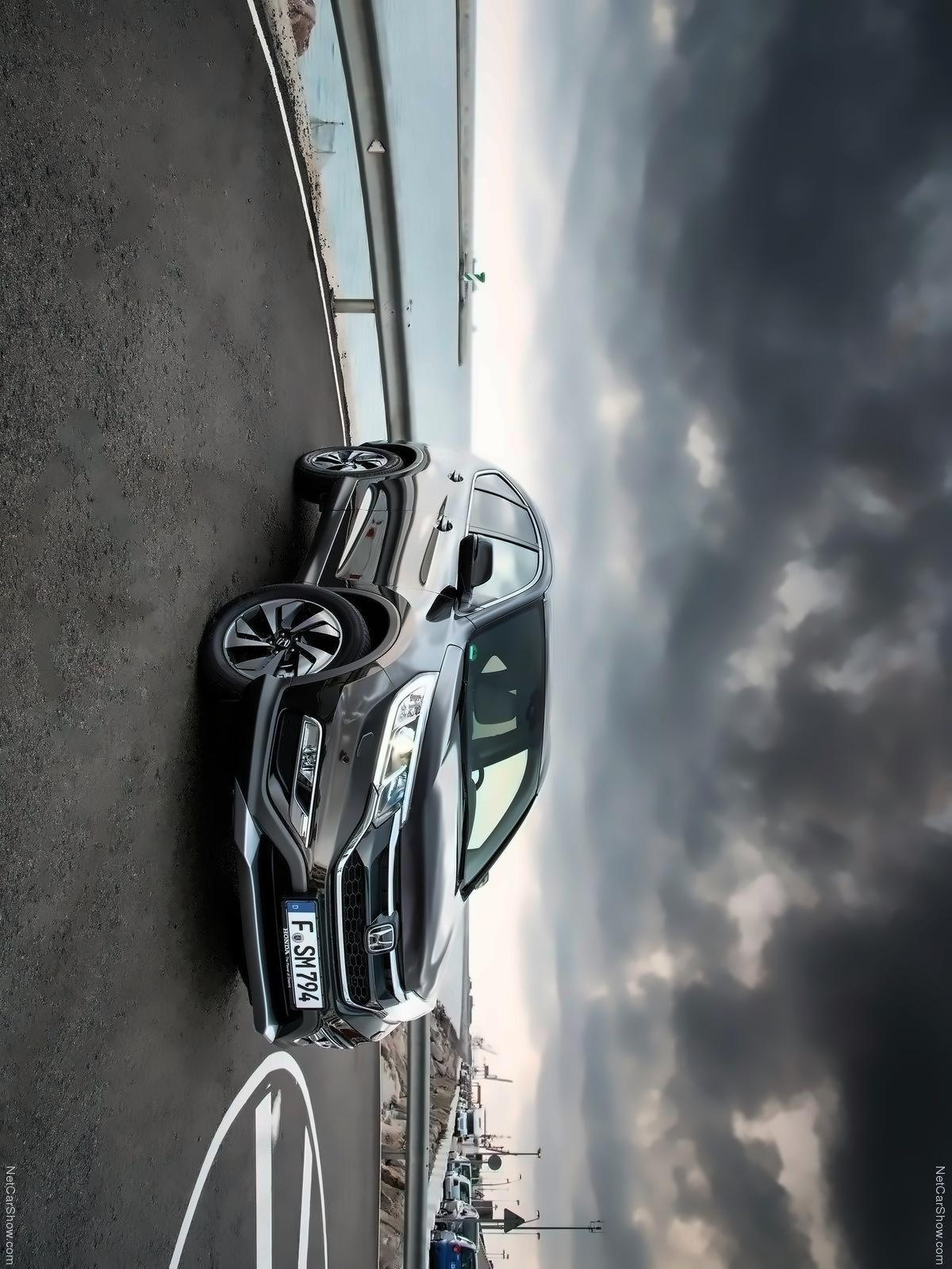Car hood: (396, 635, 484, 1016)
Driver-s door - -F-R-: (280, 516, 562, 636)
Front bumper: (228, 660, 398, 1067)
Headlight - -L-: (365, 984, 432, 1043)
Headlight - -R-: (366, 664, 439, 840)
Passenger-s door - -R-R-: (296, 464, 562, 551)
Side bumper - -R-: (292, 464, 373, 595)
Side mirror - -R-: (433, 534, 494, 630)
